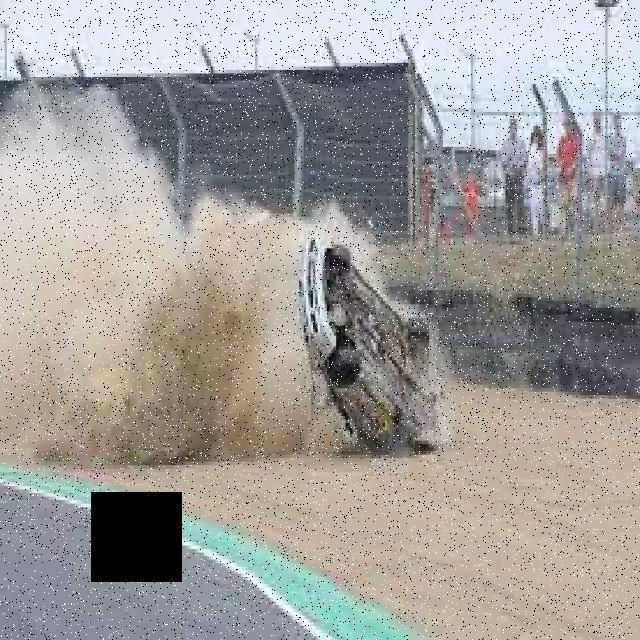severe: (298, 231, 442, 458)
